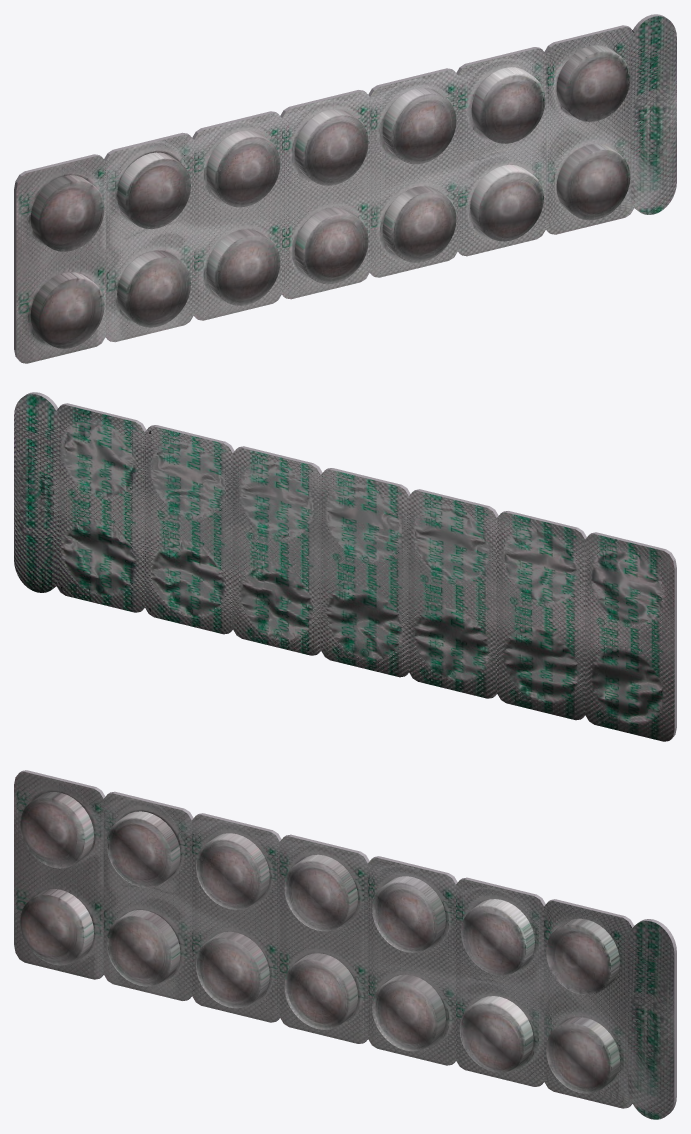
File: 20140416GOPHDRGPT34933.fbx
The picture shows the model from 3 angles, top to bottom: view 1: azimuth 30°, elevation 25°; view 2: azimuth 150°, elevation 25°; view 3: azimuth 330°, elevation 25°; orthographic projection.
Visible parts, largest first — view 1: 球體.009; view 2: 球體.009; view 3: 球體.009.
Part boxes in pixels (left/top/right/bottom): 球體.009: left=14, top=14, right=676, bottom=363; 球體.009: left=14, top=392, right=676, bottom=741; 球體.009: left=14, top=770, right=676, bottom=1119.
Bounding box in the file's own units: 13.03 × 3.73 × 0.3599.
Materials: 2 (1 with a texture image).
